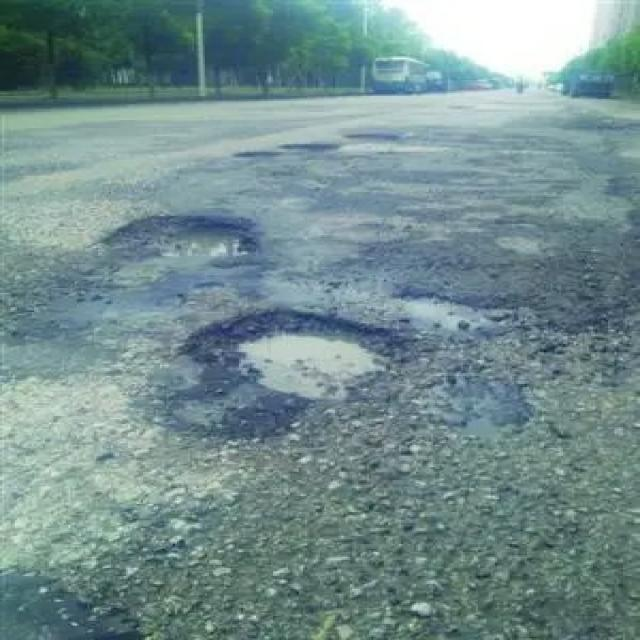Pothole: (179, 304, 395, 426), (115, 213, 258, 261), (394, 286, 508, 341), (237, 139, 337, 162), (346, 128, 396, 146)
